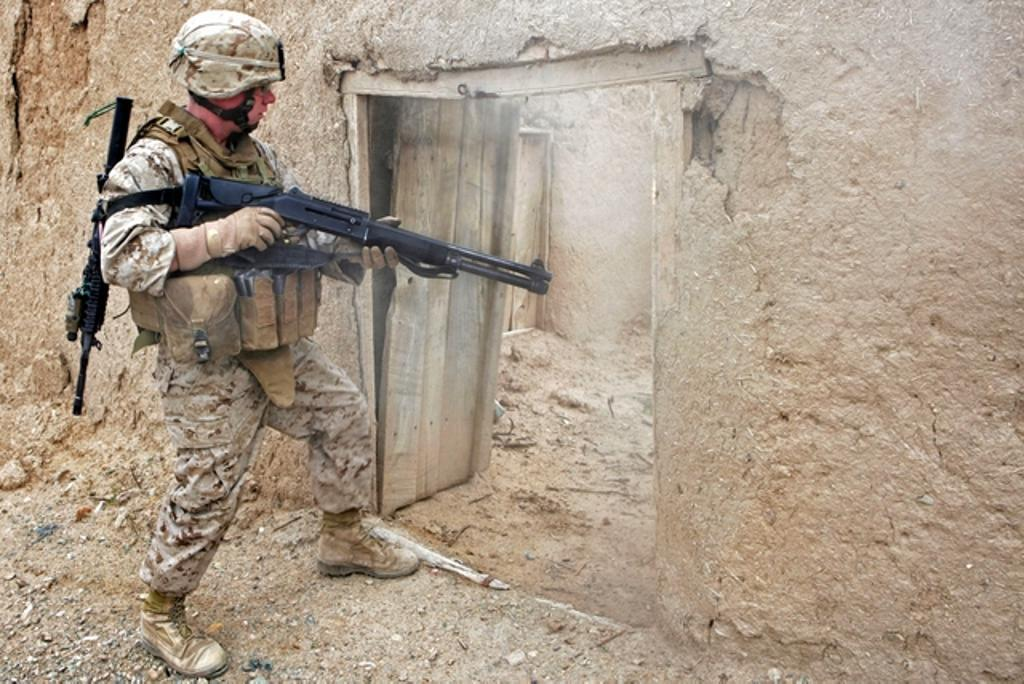face: (228, 62, 276, 130)
